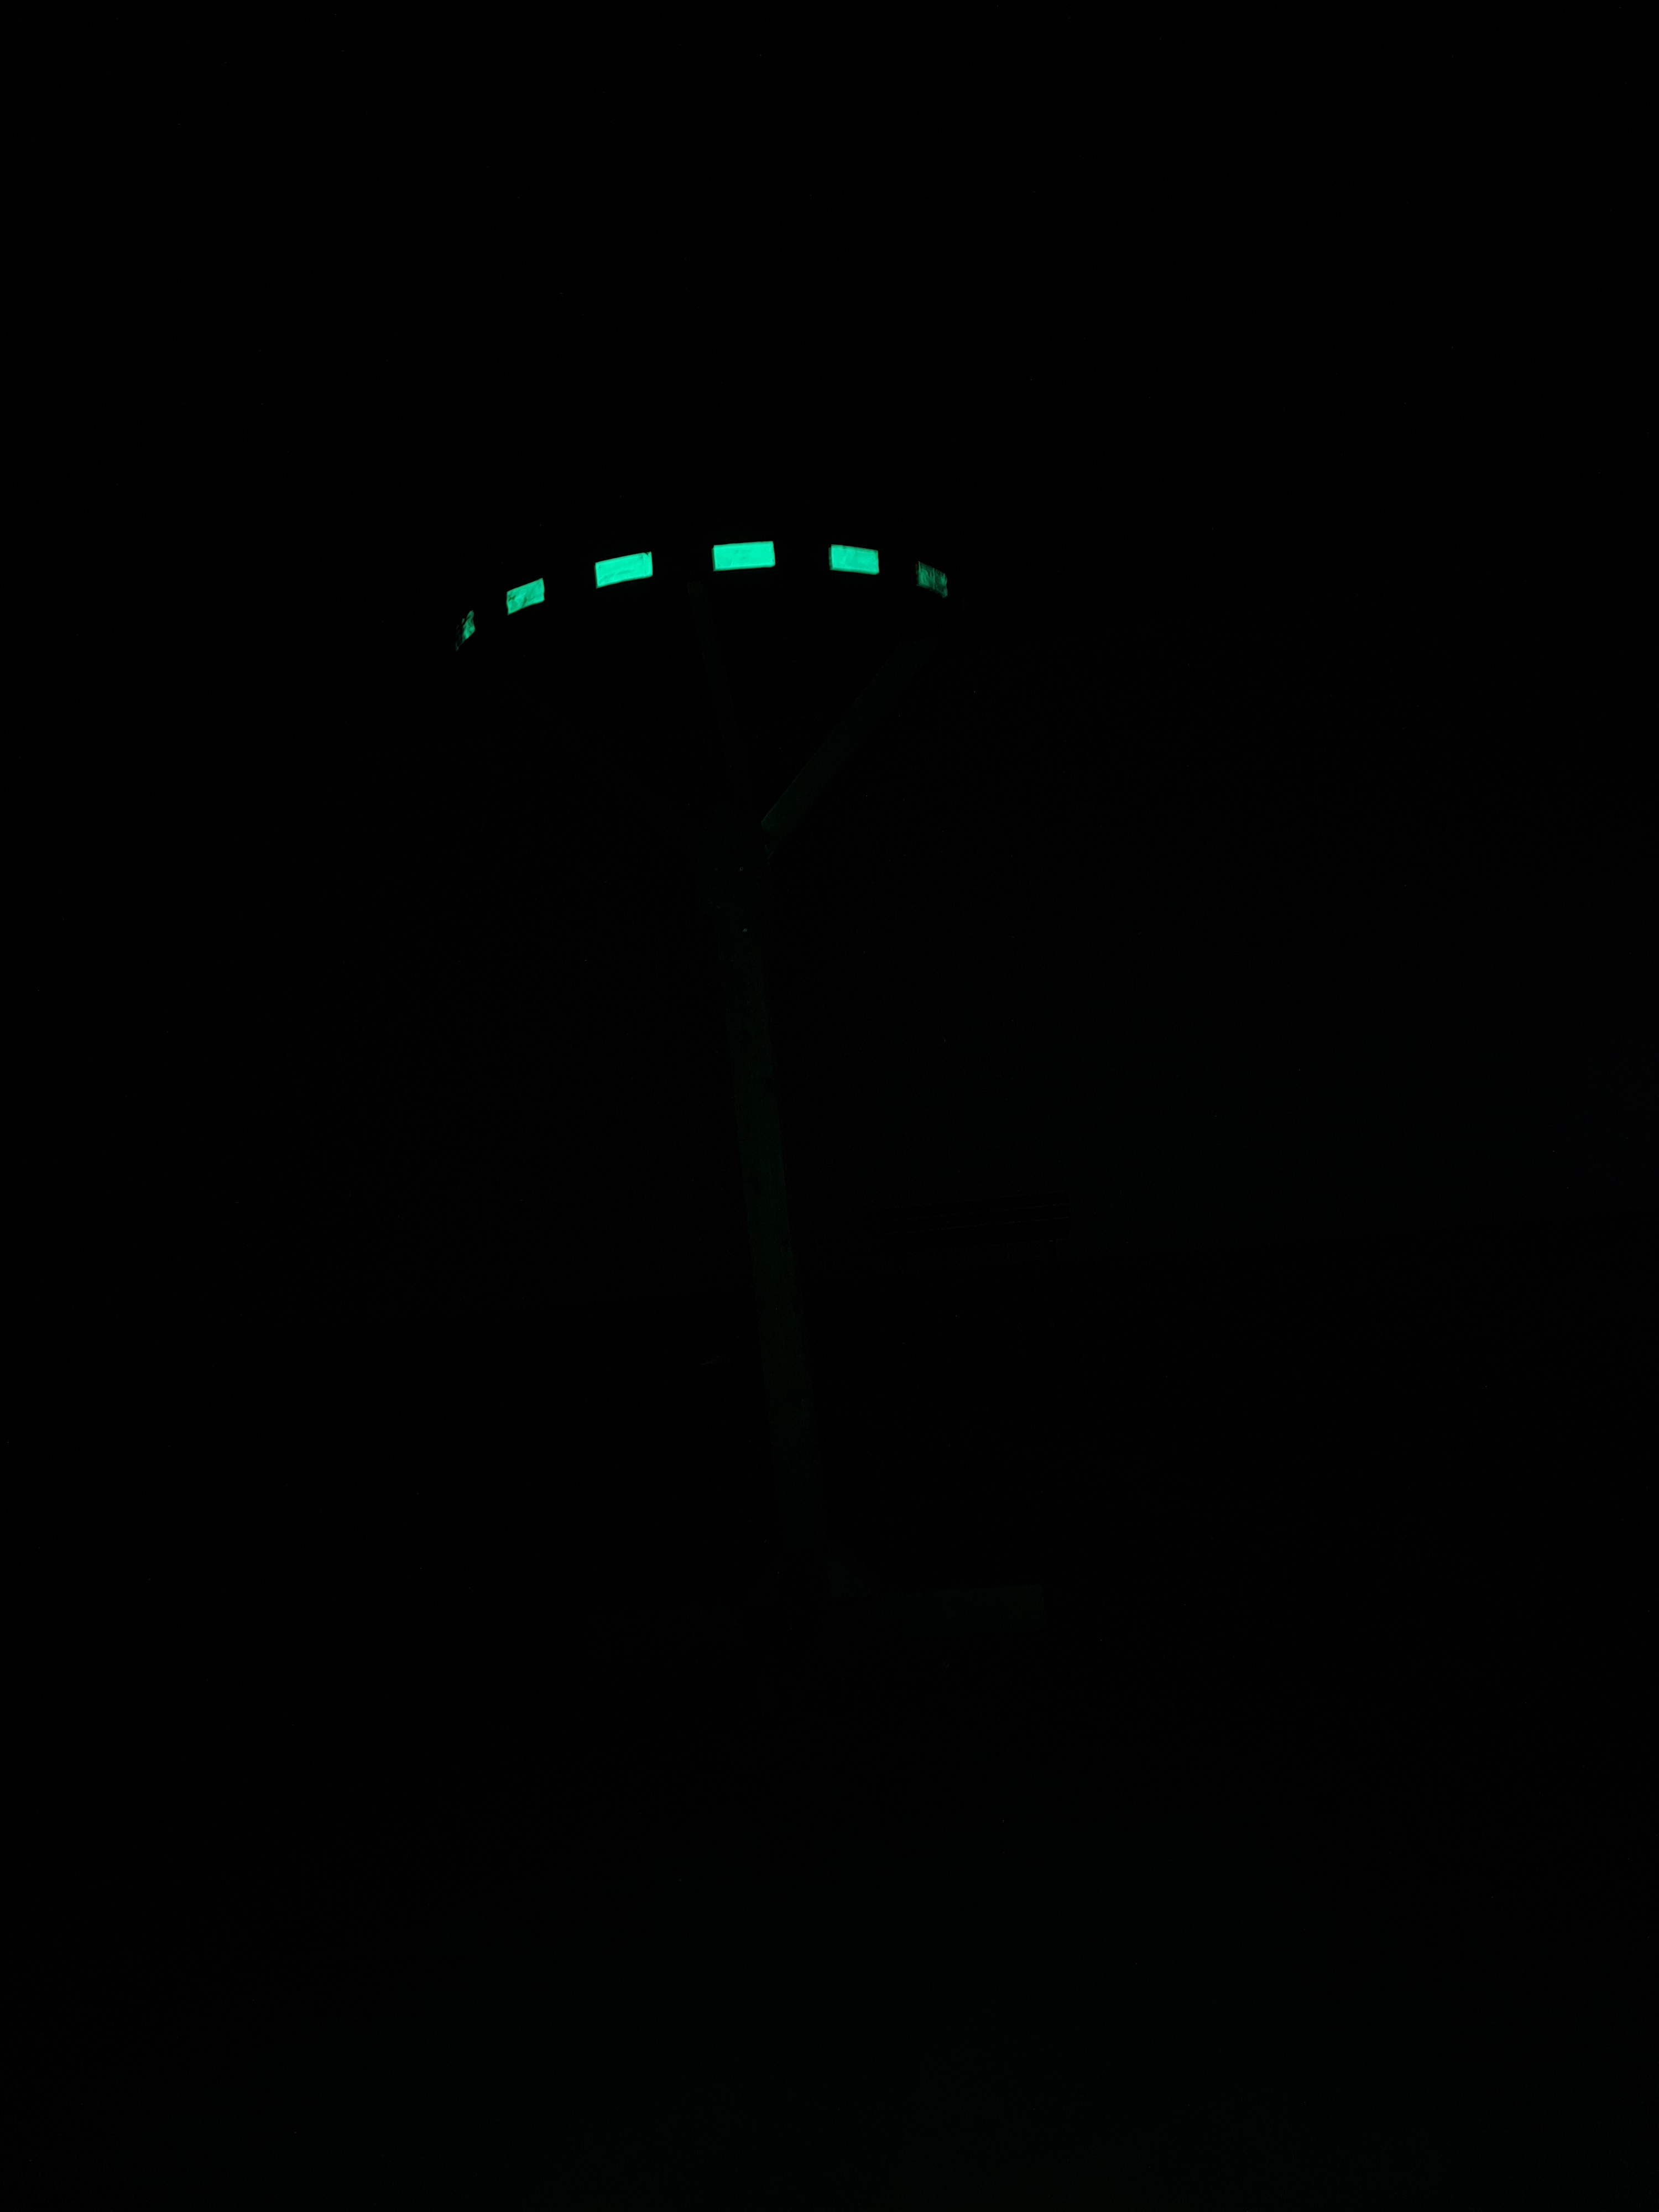hoop: (441, 536, 962, 632)
